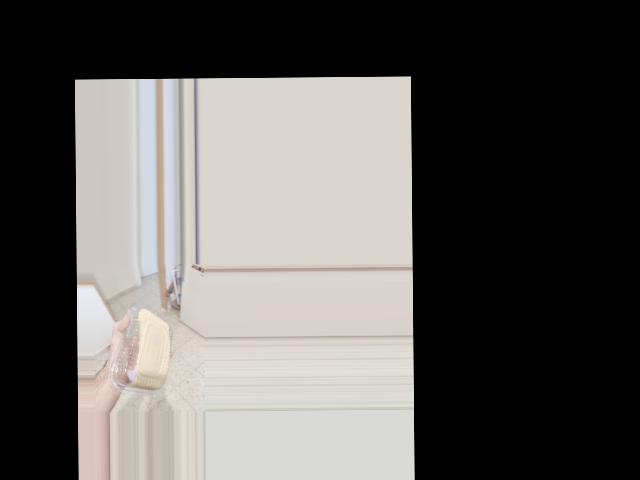cheese: (125, 325, 162, 401)
